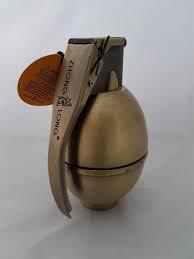Grenade: (46, 35, 147, 219)
